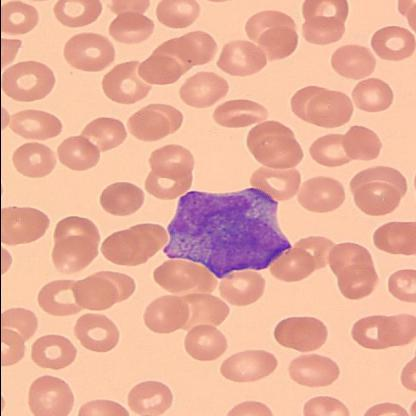Promyelocyte: (161, 187, 289, 277)
